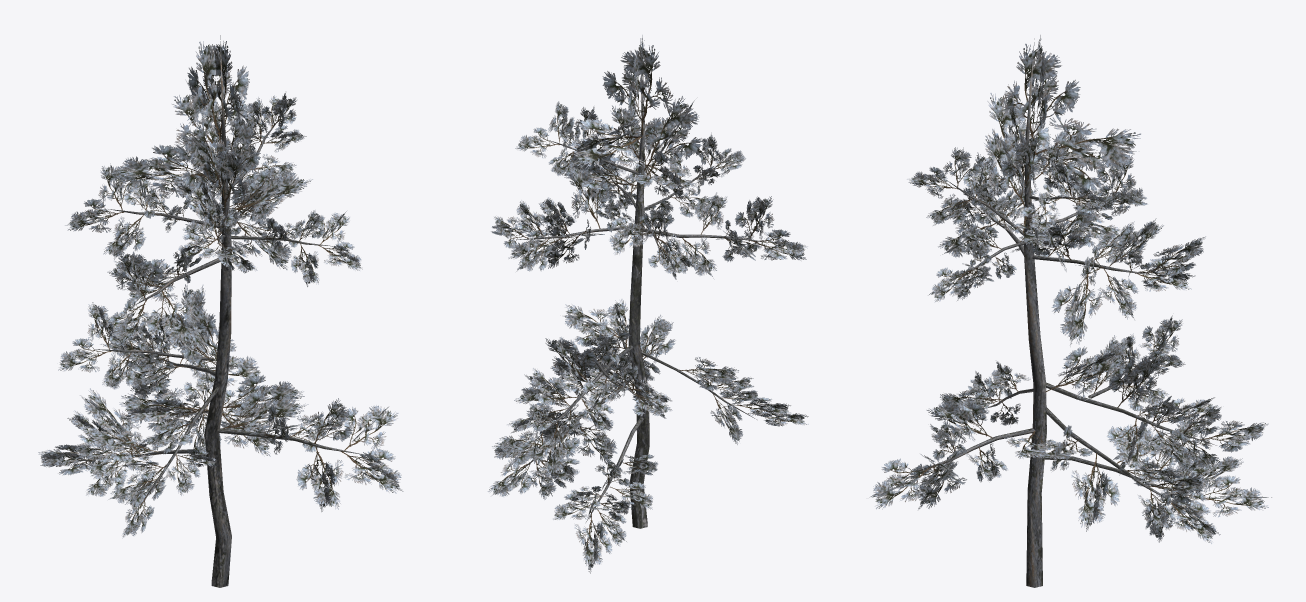
Rendered from SC_bingfengyiji_06.FBX.
3 views of the same model, side by side, from view 1: azimuth 30°, elevation 25°; view 2: azimuth 150°, elevation 25°; view 3: azimuth 270°, elevation 25° (orthographic). The views are drawn at different scales.
Visible parts, largest first — view 1: SC_bingfengyiji_06; view 2: SC_bingfengyiji_06; view 3: SC_bingfengyiji_06.
Boxes of the visible parts, x1,y1,x2,y2 form: SC_bingfengyiji_06: [38, 35, 403, 587]; SC_bingfengyiji_06: [487, 35, 808, 573]; SC_bingfengyiji_06: [869, 35, 1271, 587].
Size of the model in its own units: 326 by 543 by 400.
